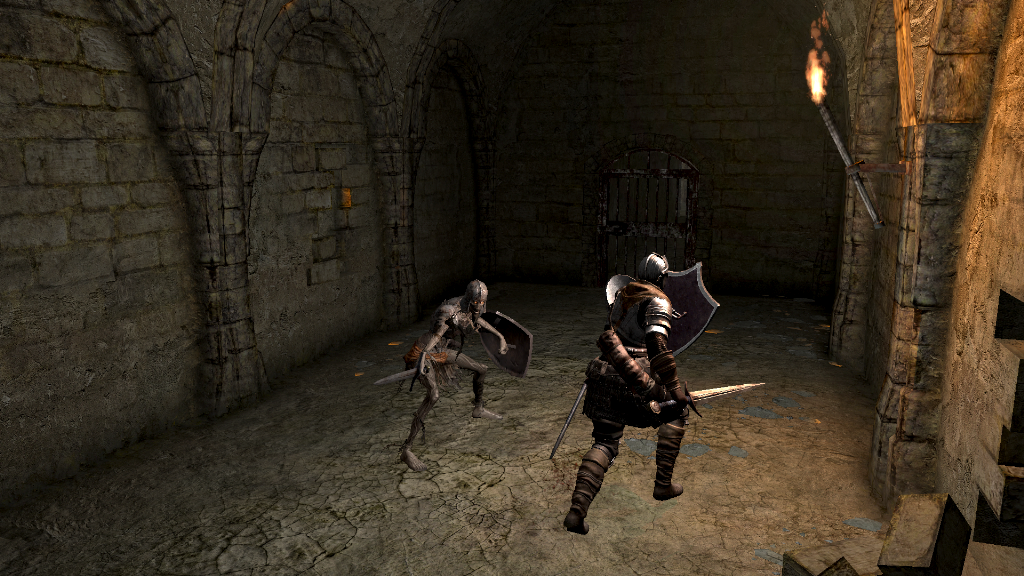player: (550, 250, 766, 532)
undeadSoldier: (397, 277, 510, 470)
